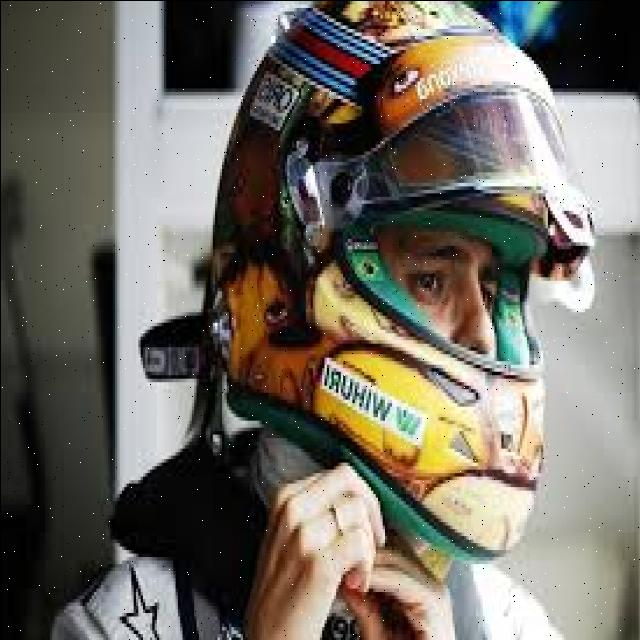Helmet: (140, 0, 590, 555)
